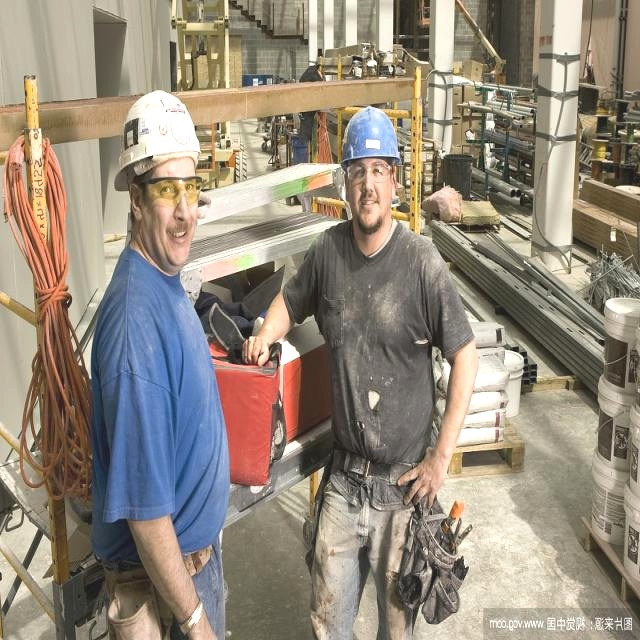Con_Casco: (115, 94, 199, 251), (340, 106, 399, 223)
Sin_Chaleco: (92, 280, 229, 564), (318, 227, 430, 468)
